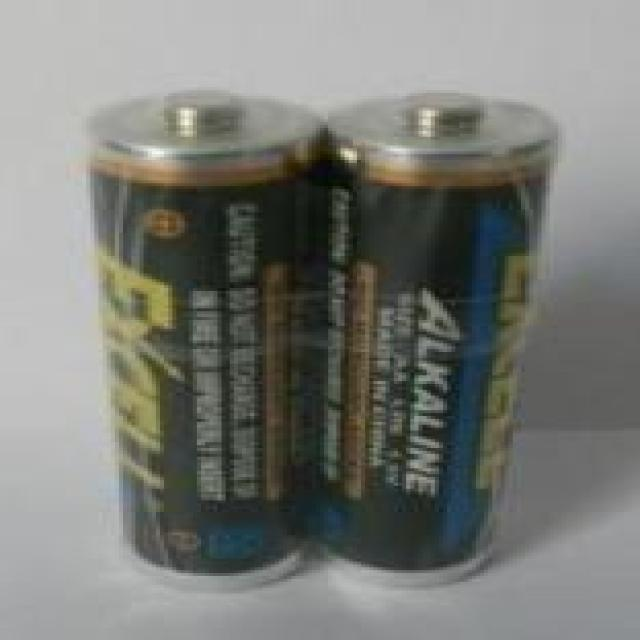-Recyclables - plastic bottle-: (88, 86, 320, 591), (328, 86, 552, 585)
